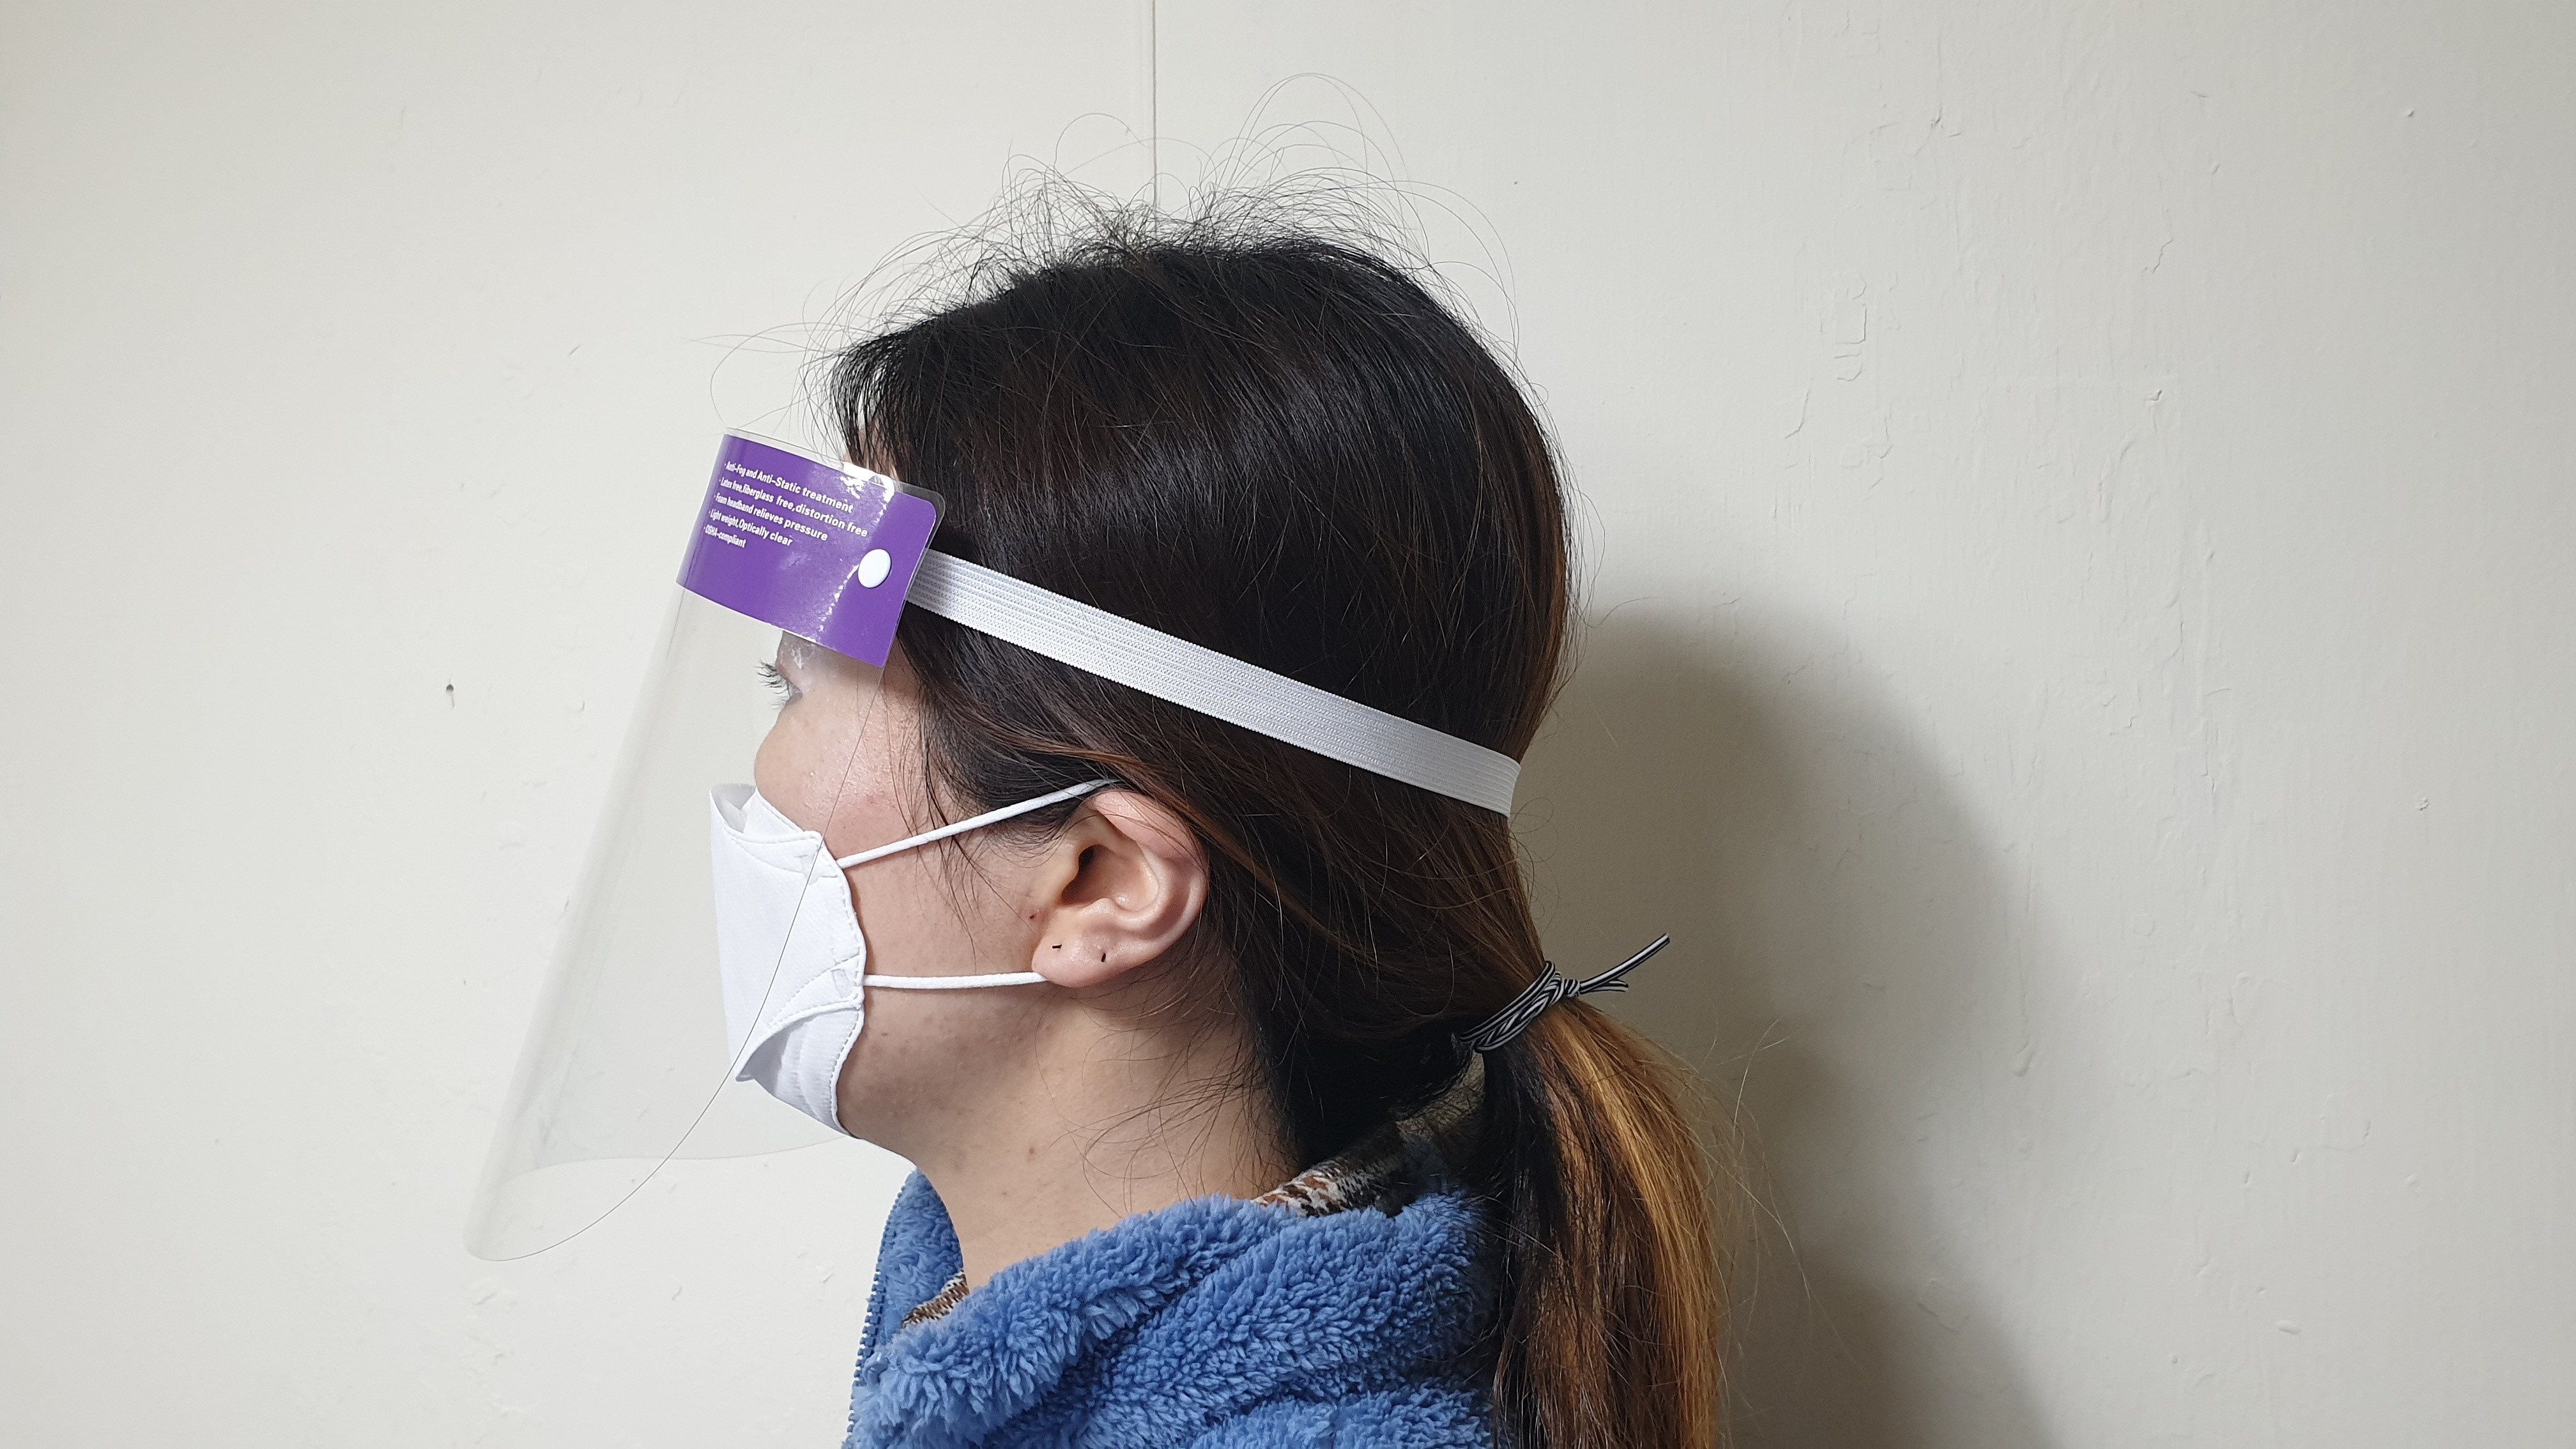face_with_mask: (469, 273, 1576, 1268)
